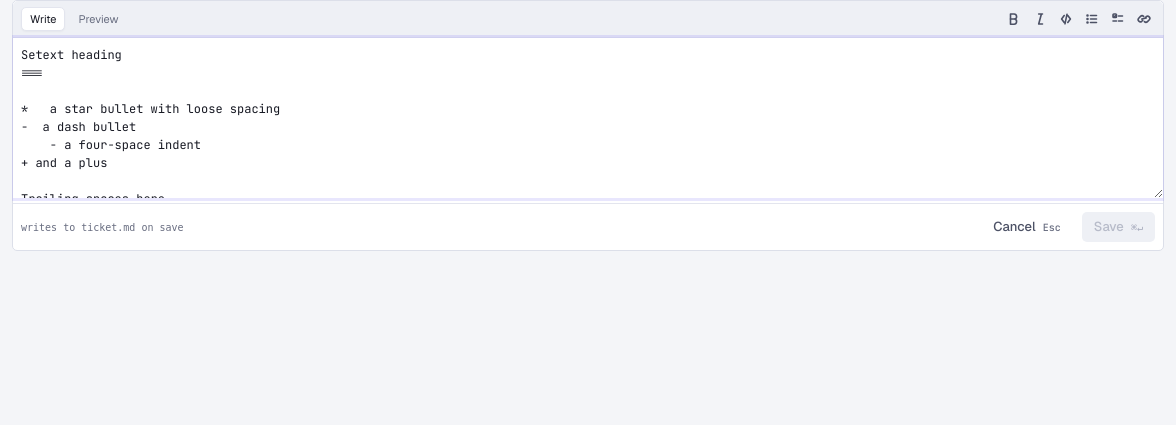
Test case: must-pass 2: the raw string is never normalized › shows the whole document in the preview, rendered or not
Click the tab "Preview": {"x": 98, "y": 19} 70,7 -> 127,31
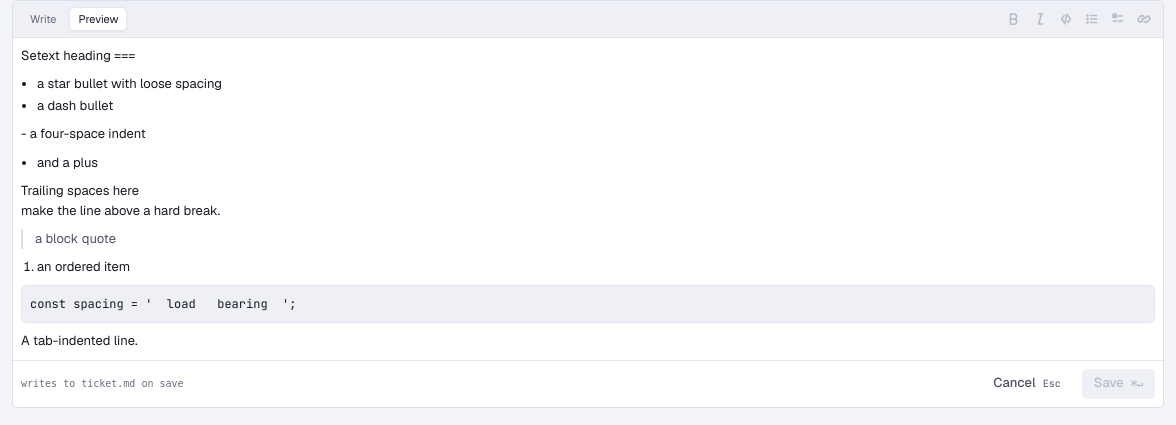
Now the panel named "Preview" shows "Setext heading", box 21,47 -> 135,64
Now the panel named "Preview" shows "const spacing = ' load bearing ';", box 30,296 -> 296,312
Now the panel named "Preview" shows "A tab-indented line.", box 21,332 -> 138,349
